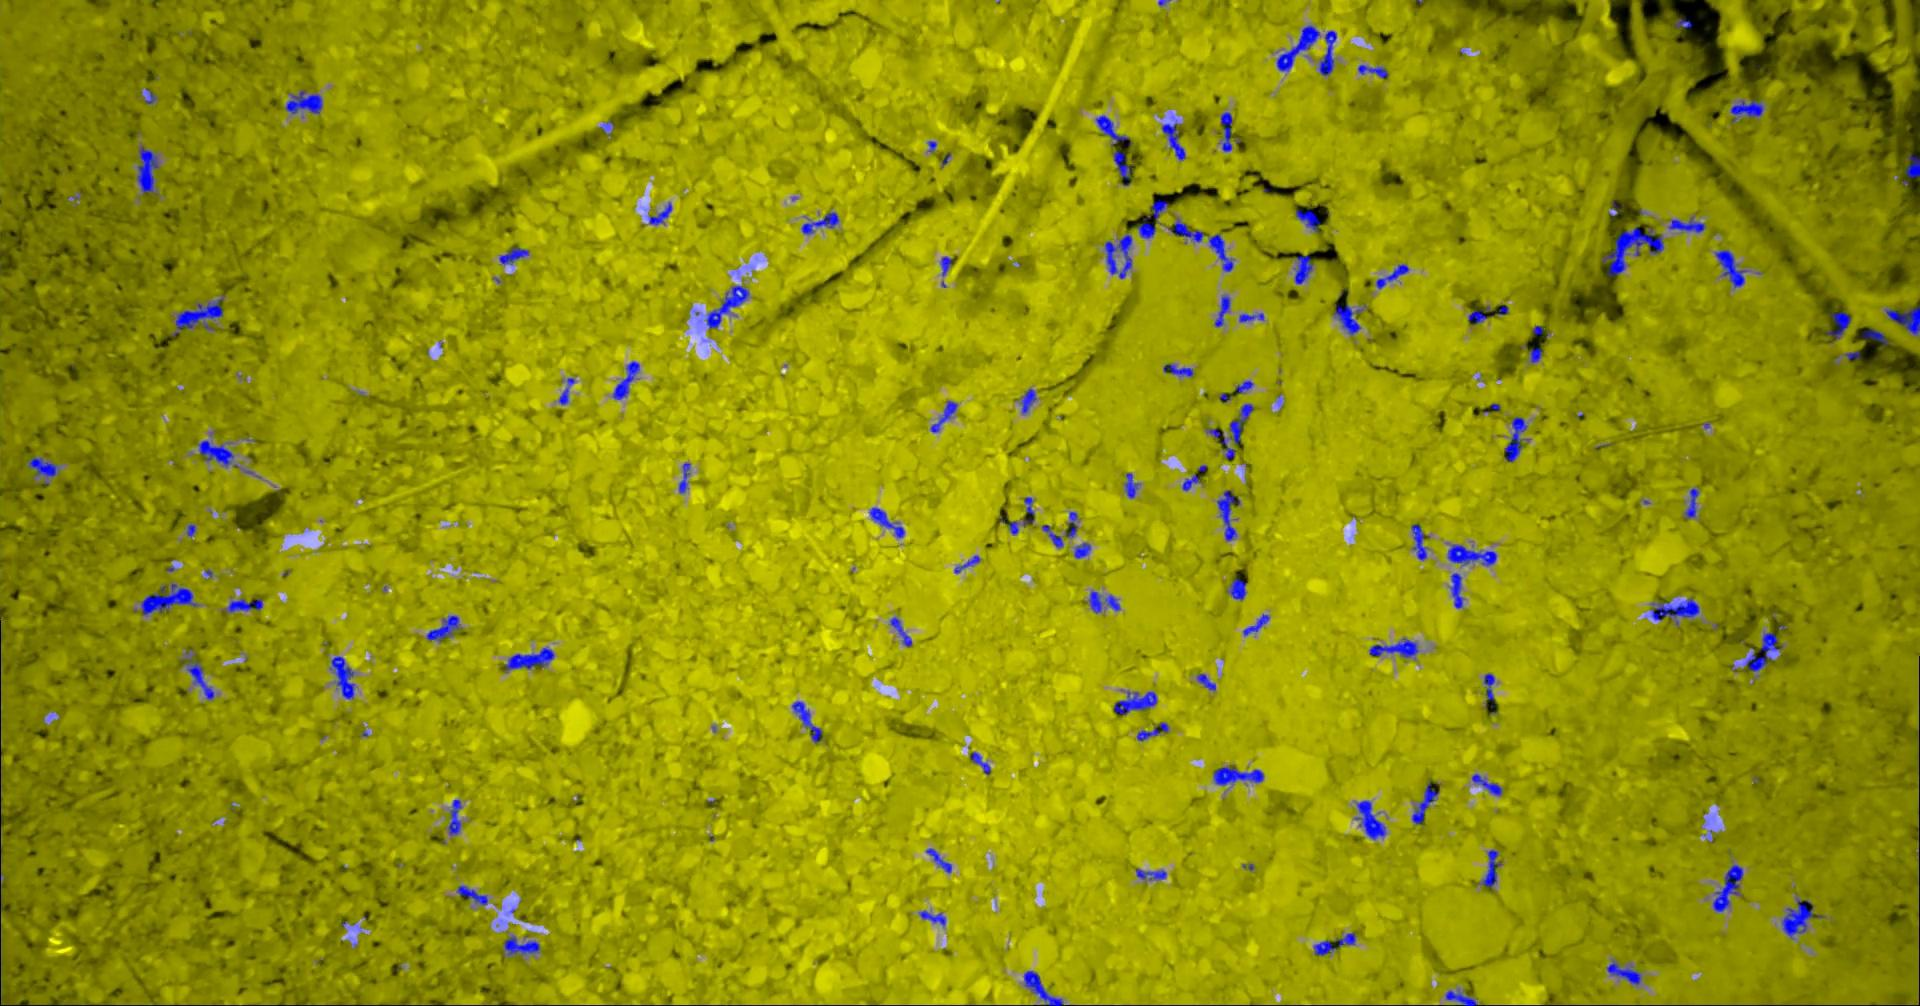ant: (173, 295, 226, 337), (1277, 25, 1321, 70), (707, 285, 750, 328), (142, 583, 199, 614), (1783, 897, 1825, 937), (1746, 633, 1785, 671), (184, 650, 215, 699), (1025, 970, 1065, 1005), (1714, 864, 1743, 911), (1652, 597, 1702, 624), (792, 701, 824, 742), (1716, 249, 1749, 287), (1138, 199, 1170, 238), (1356, 800, 1387, 840), (1106, 234, 1133, 278), (1413, 780, 1440, 824), (1218, 489, 1241, 540), (505, 647, 556, 669), (870, 507, 905, 537), (1506, 417, 1530, 461), (1449, 544, 1498, 565), (615, 359, 641, 399), (331, 655, 356, 699), (1115, 690, 1158, 714), (1097, 116, 1133, 145), (138, 145, 160, 192), (201, 439, 237, 466), (1230, 403, 1255, 443), (1371, 636, 1420, 657), (1210, 232, 1236, 271), (1163, 119, 1187, 159), (1215, 766, 1265, 785), (1335, 304, 1365, 334), (1887, 306, 1920, 334), (287, 89, 324, 113), (428, 615, 461, 641), (30, 456, 60, 485), (1208, 428, 1236, 459), (932, 400, 959, 432), (1377, 263, 1410, 288), (1608, 960, 1642, 984), (803, 212, 841, 234), (1482, 848, 1503, 887), (1321, 30, 1338, 75), (1732, 99, 1765, 122), (1172, 218, 1205, 241), (1090, 589, 1121, 612), (505, 935, 541, 955), (1115, 150, 1134, 185), (1827, 311, 1851, 339), (1473, 774, 1503, 795), (1413, 523, 1431, 560), (927, 847, 952, 873), (891, 617, 913, 647), (1669, 216, 1707, 232), (1138, 721, 1170, 741), (458, 885, 489, 904), (1244, 614, 1271, 635), (223, 598, 264, 612), (650, 202, 673, 225), (1043, 525, 1065, 547), (1297, 210, 1321, 231), (1297, 255, 1314, 285), (1222, 111, 1234, 151), (1217, 293, 1232, 326), (502, 246, 530, 264), (1862, 328, 1890, 345), (450, 799, 463, 835), (1448, 989, 1479, 1005), (1451, 572, 1464, 608), (971, 751, 992, 774), (1359, 64, 1390, 77), (1686, 486, 1700, 518), (560, 377, 577, 404), (919, 909, 947, 925), (956, 555, 982, 572), (1229, 578, 1248, 600), (1484, 673, 1497, 705), (1164, 363, 1195, 376), (1022, 387, 1037, 413), (1023, 495, 1036, 525), (1001, 514, 1020, 533), (1137, 868, 1168, 879), (1470, 306, 1491, 324), (1126, 473, 1140, 498), (1316, 940, 1337, 955), (1197, 673, 1217, 690), (1183, 474, 1201, 490), (1907, 154, 1920, 177), (681, 464, 691, 492), (1069, 511, 1079, 537), (1338, 932, 1357, 946), (1076, 542, 1092, 558), (1239, 312, 1265, 321), (1237, 380, 1255, 392), (1676, 17, 1694, 28), (942, 257, 952, 276), (1531, 347, 1543, 362)
